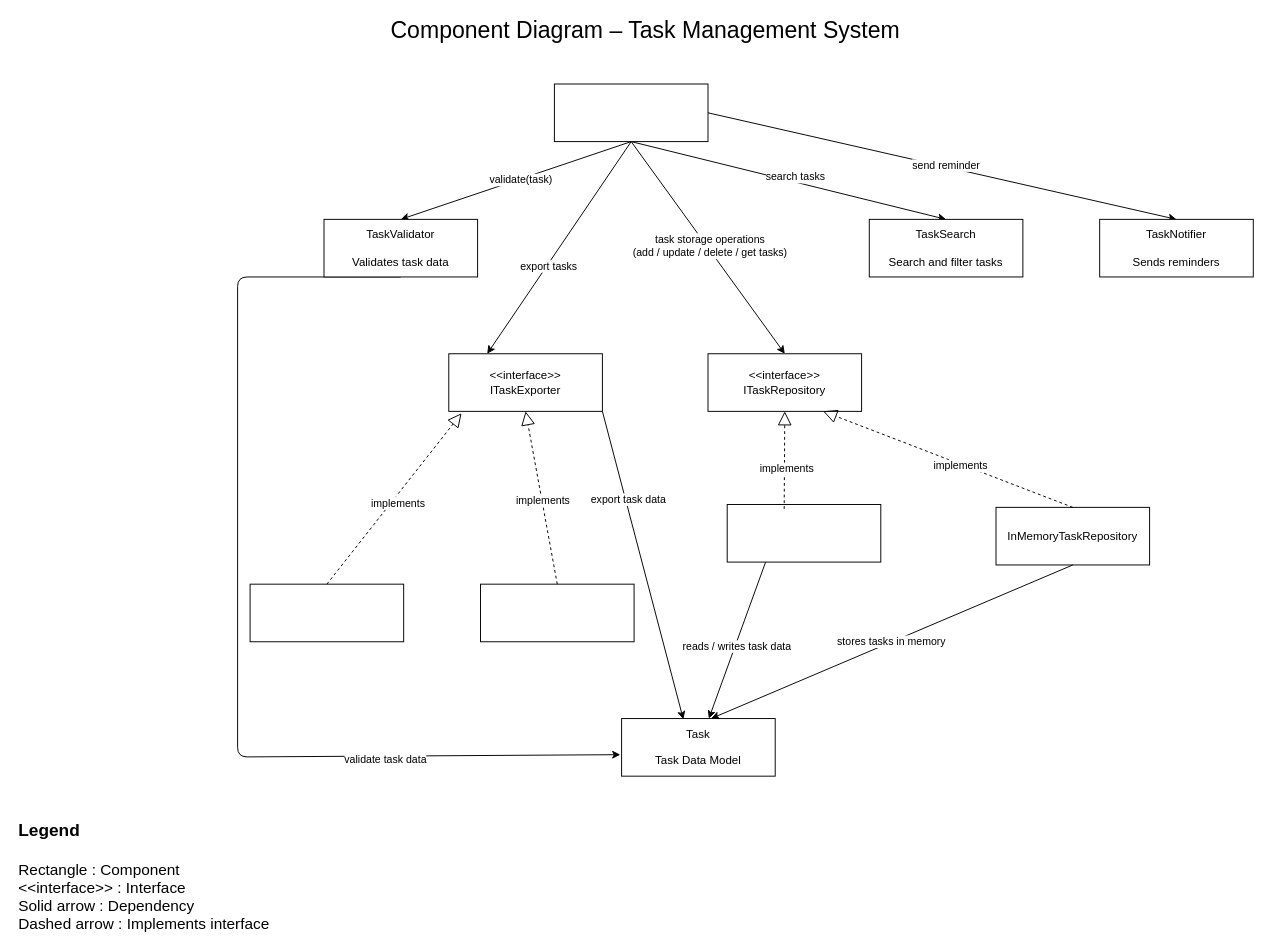
Image size: 1270x949. Some labels were removed from this diagram. The centre of each missing label's shape, as x and y in pixels:
CsvExporter: (x=557, y=612)
FileTaskRepository: (x=803, y=533)
JsonExporter: (x=326, y=612)
TaskManager Main orchestrator Coordinates components: (x=630, y=112)
